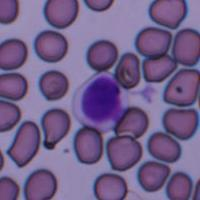L: (72, 71, 129, 131)
